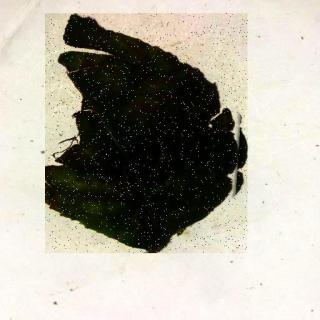Red Leaf Spot: (46, 15, 248, 255)
